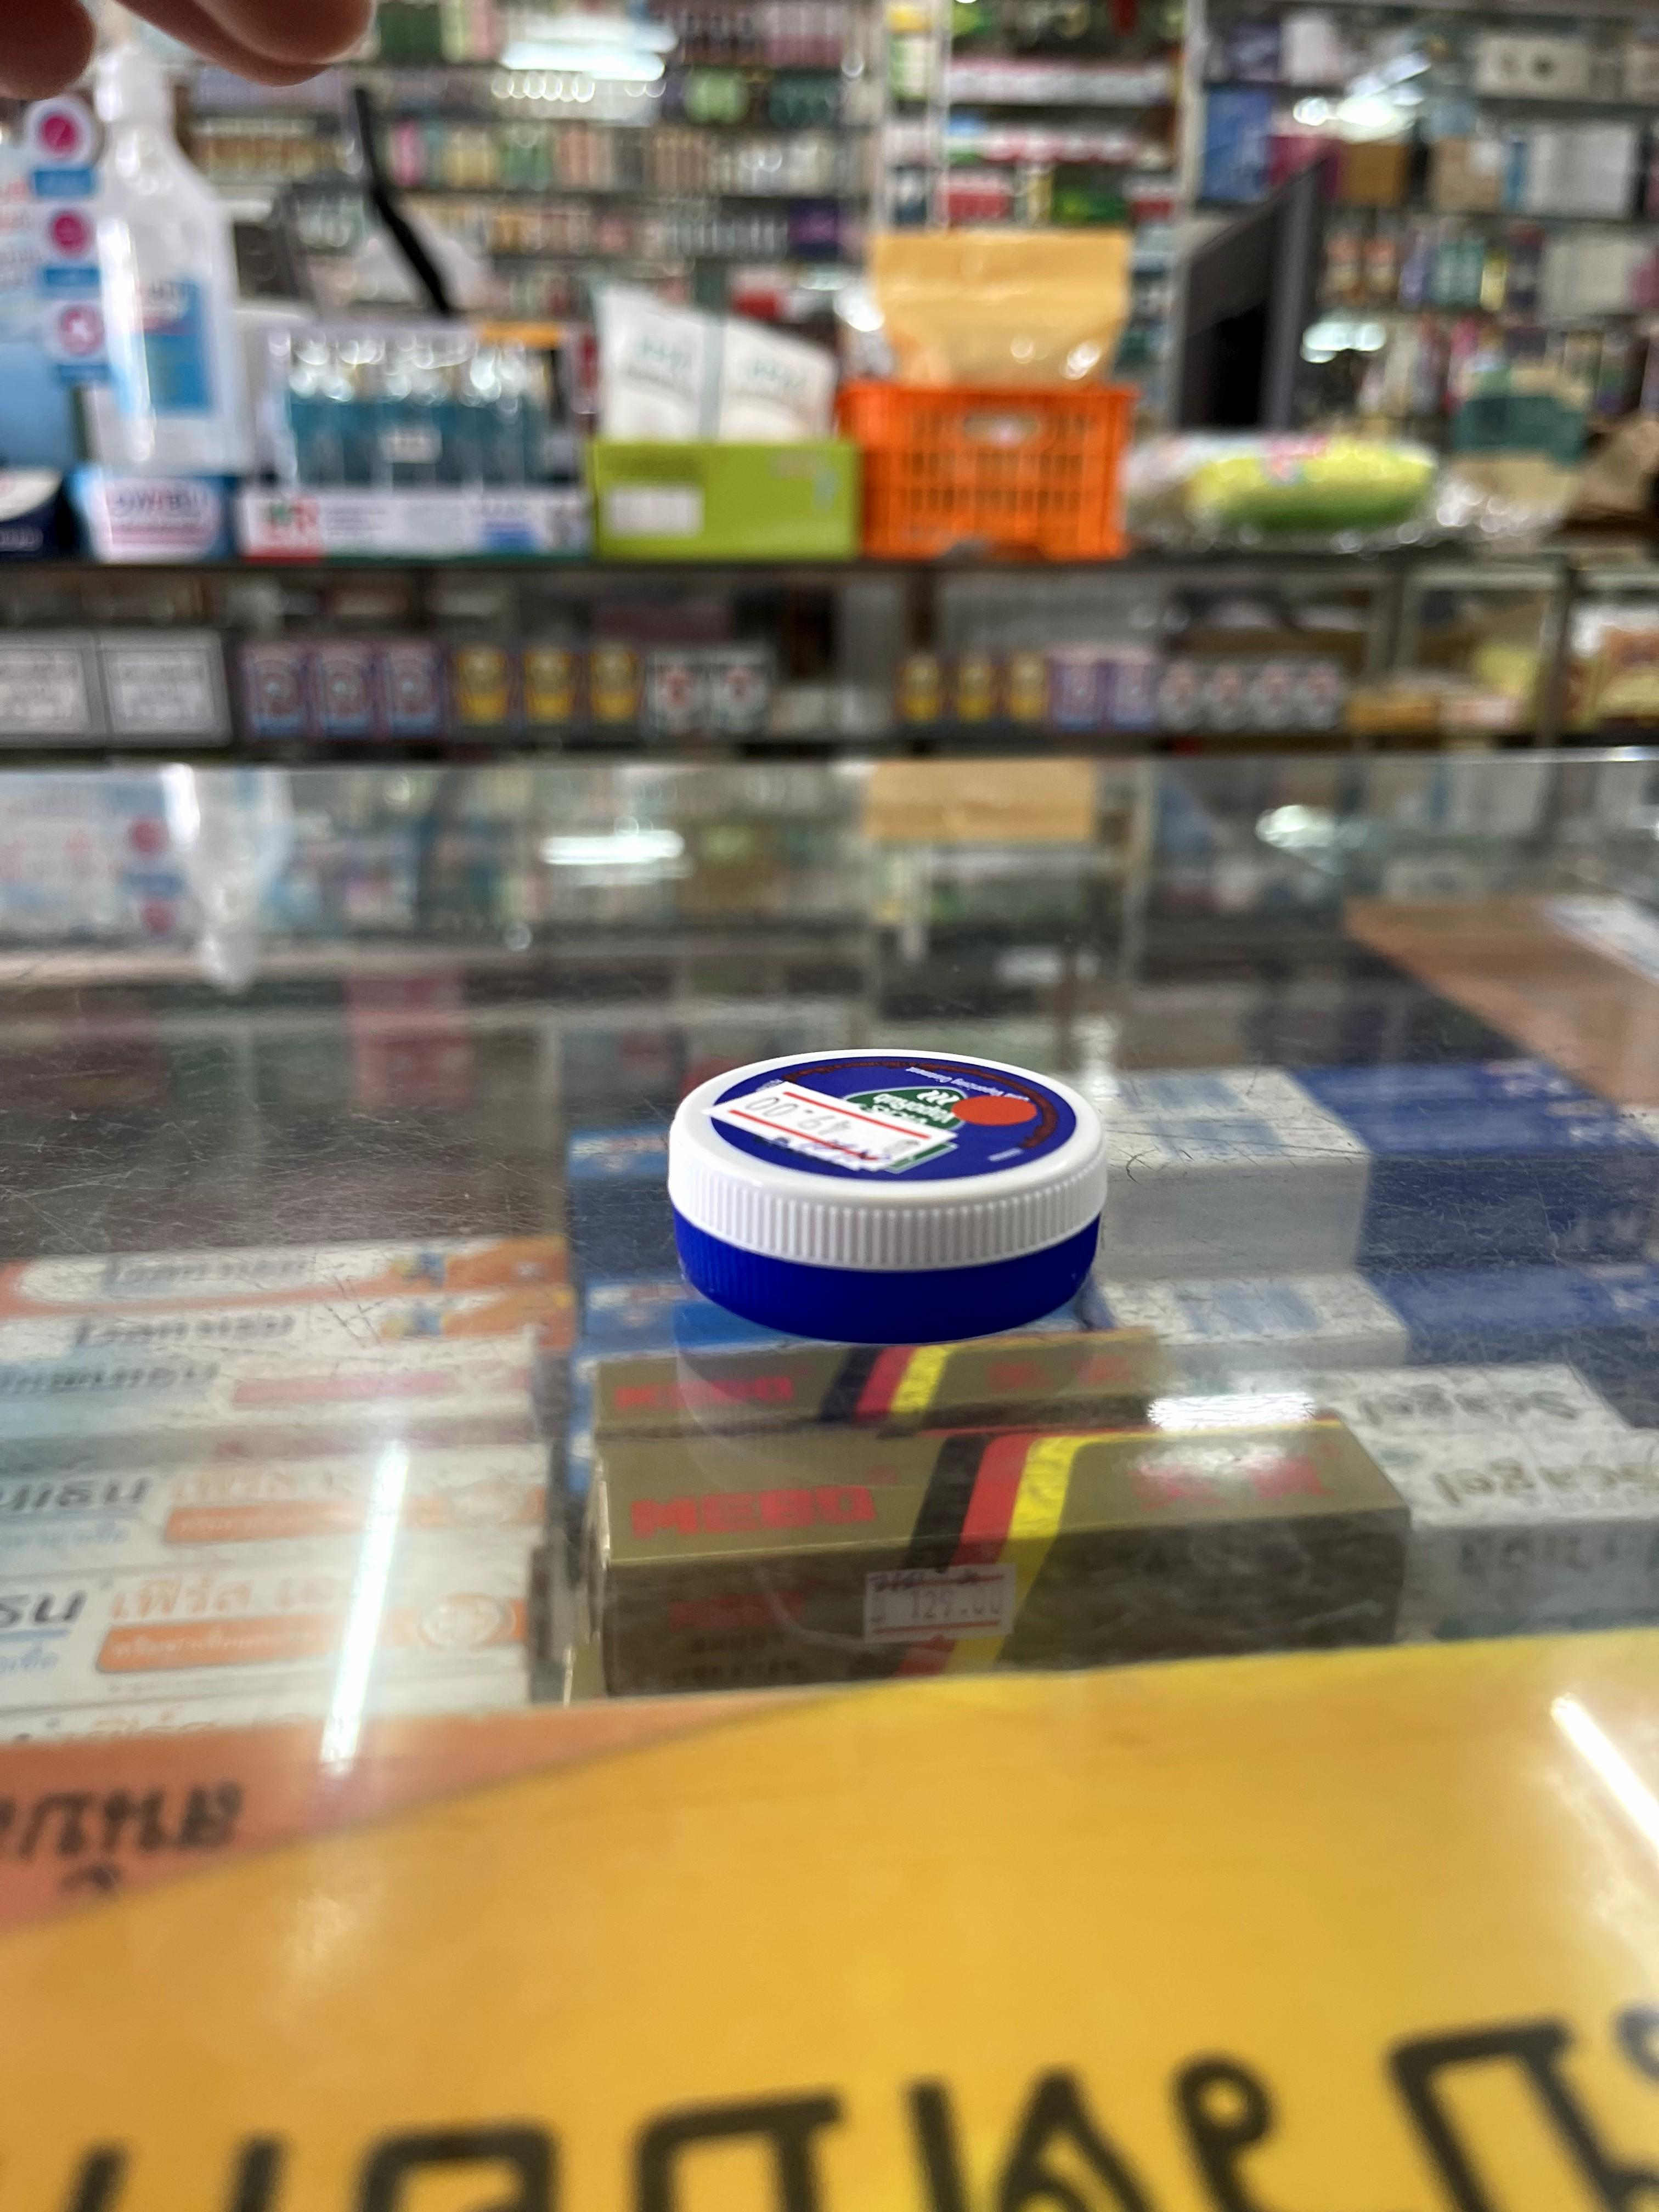VapoRub_Small: (669, 1049, 1103, 1341)
